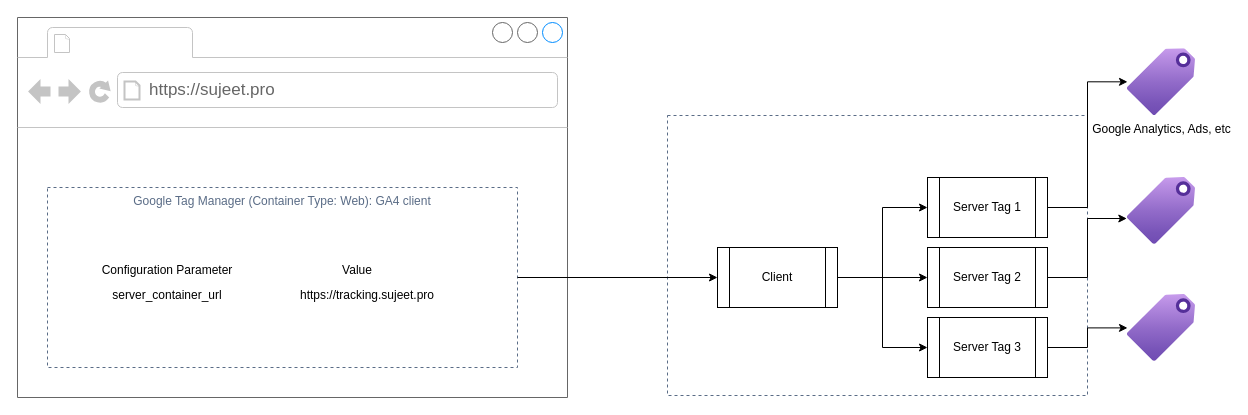
Image size: 1248x415. Some labels were removed from this diagram. The shapes that lost their labels are listed below. From the top down, each one's box as (x1, y1, x2, y2) in pixels, then its label:
(76, 28, 188, 56): Sujeet
(1127, 177, 1195, 244): Internal Analytics
(666, 114, 1088, 396): Server Container
(1127, 294, 1195, 361): 3rd party analytics
